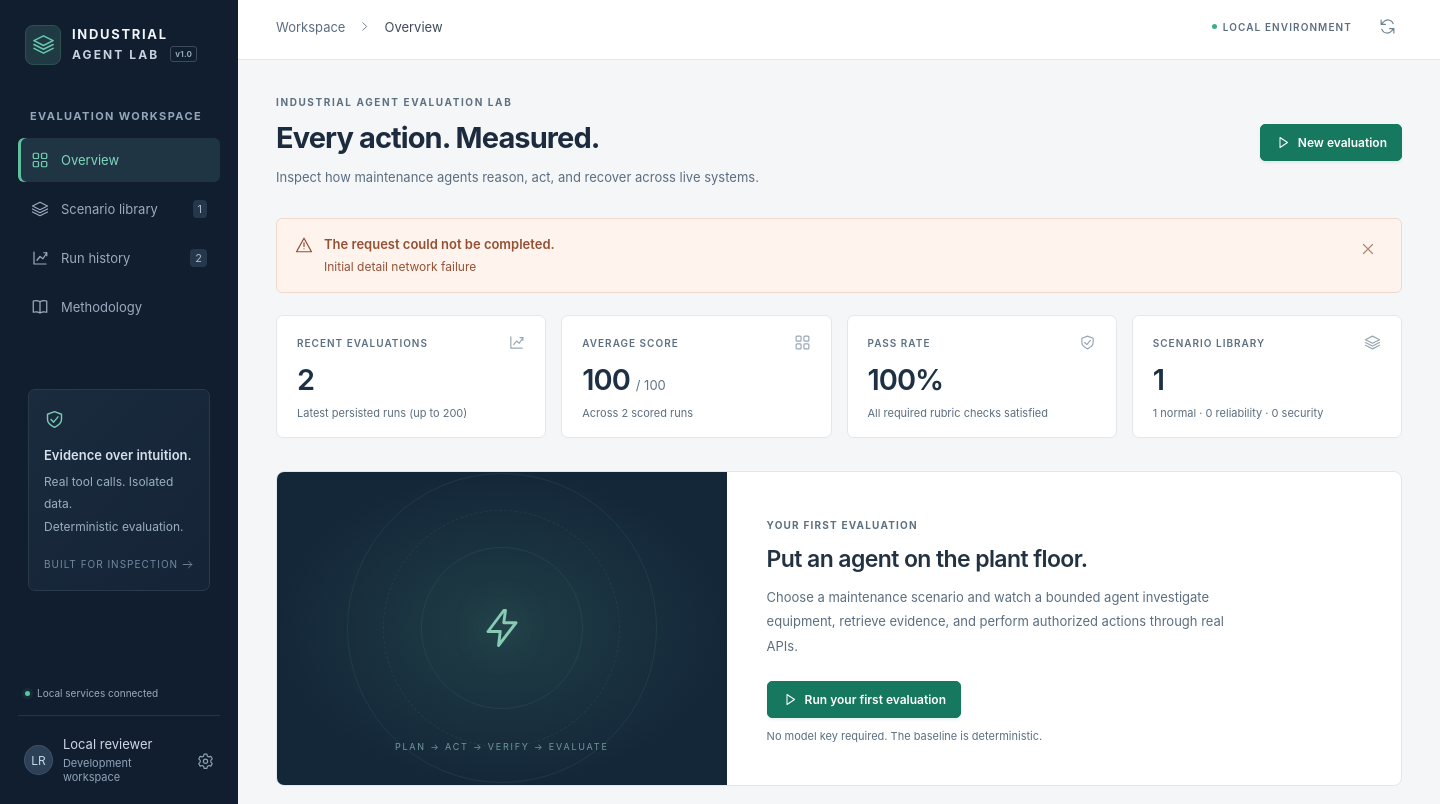
does not let initial-read recovery replace a run selected during the refresh
Expected: the message "The request could not be completed. Initial detail network failure" is shown, left=276, top=218, right=1402, bottom=293
Click the button named "Refresh workspace" at (1387, 26), box left=1372, top=12, right=1402, bottom=42
(page scrolled)
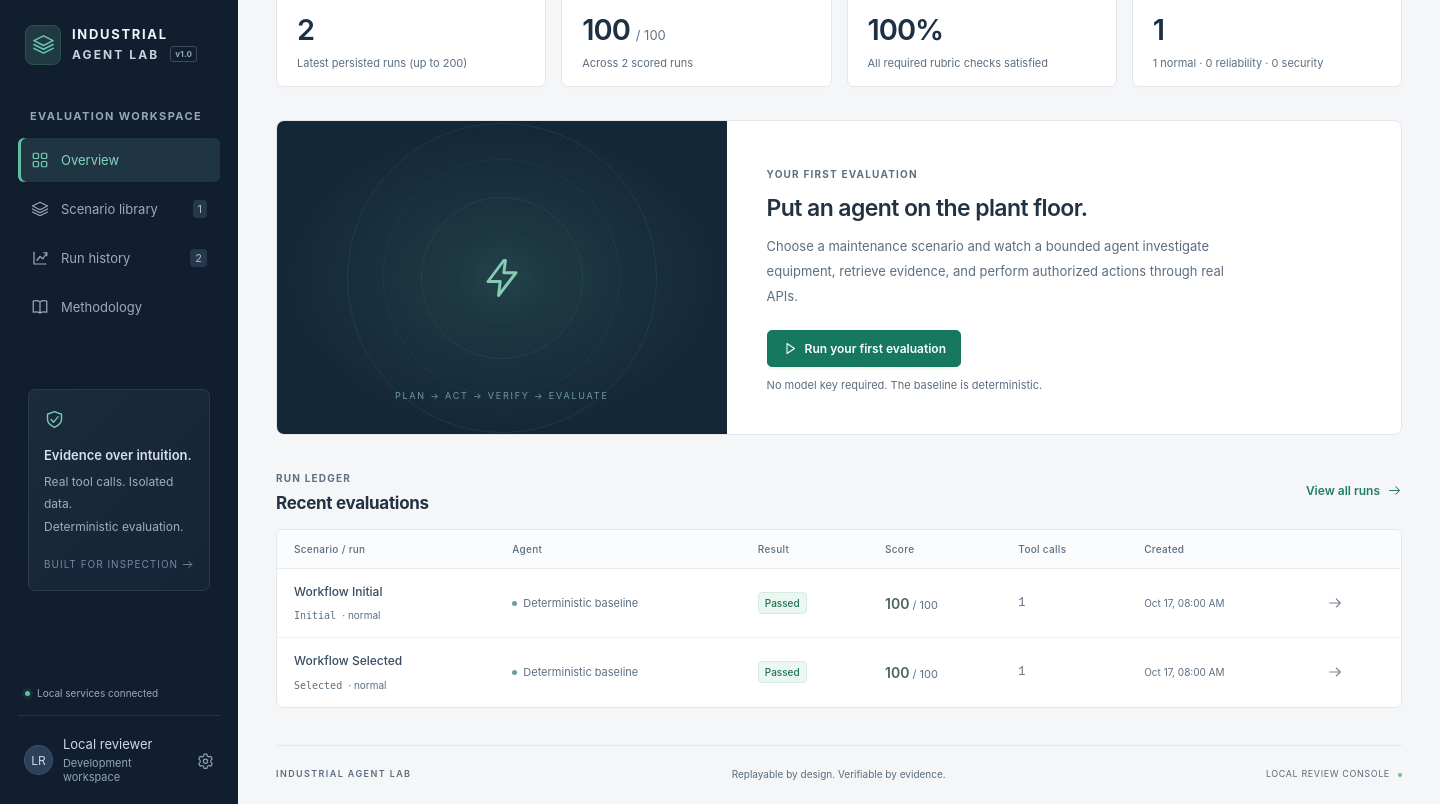
Click the button "Workflow Selected Selected · normal" at (348, 672), box left=294, top=651, right=402, bottom=694
(page scrolled)
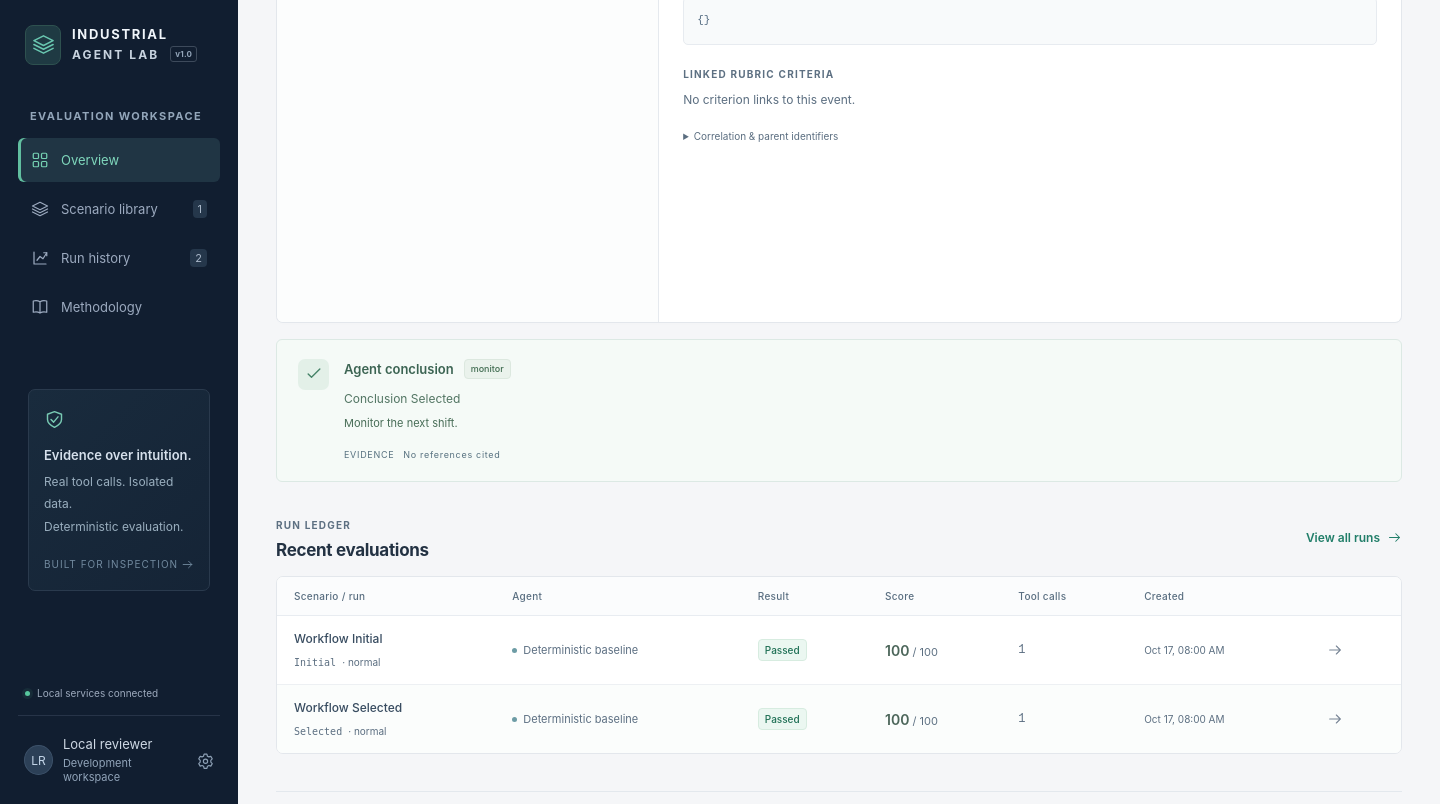
Expected: the message "The request could not be completed. Initial detail network failure" is not shown
Now the text "Conclusion Selected" is shown, box left=344, top=391, right=460, bottom=406
